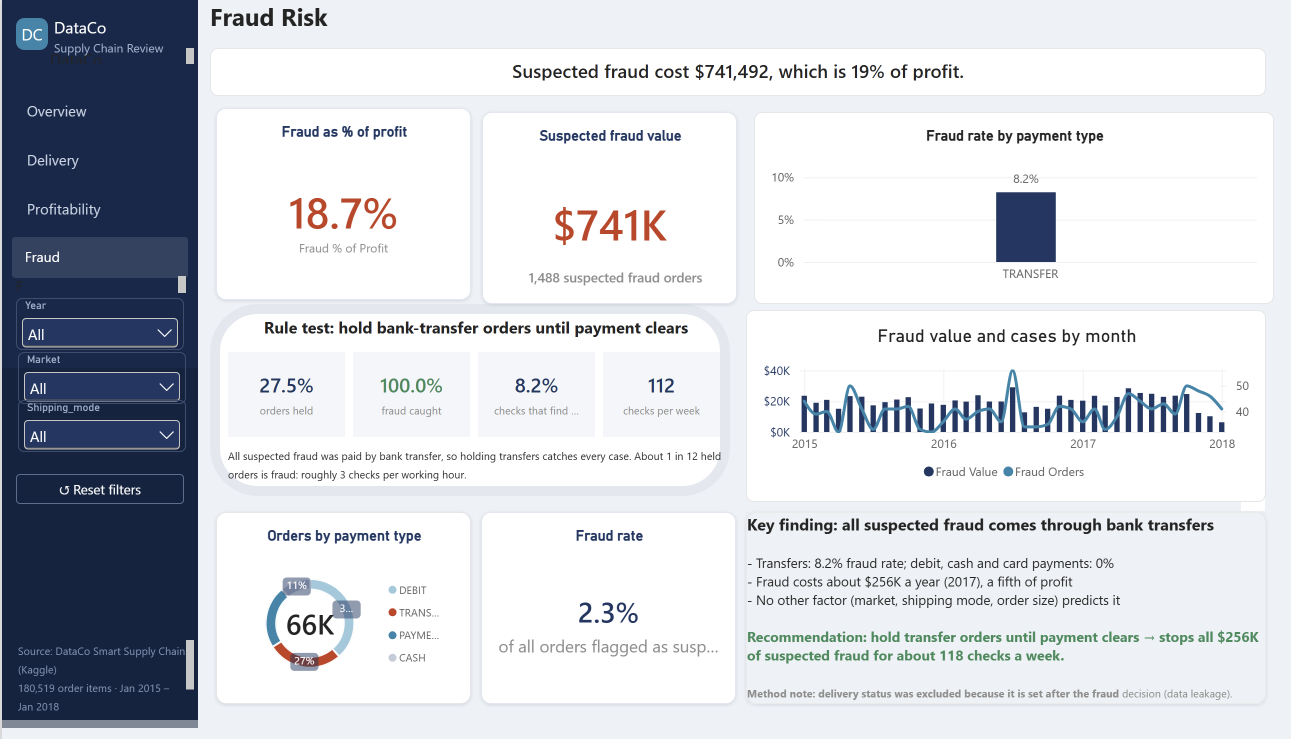

This screenshot's page, from the dashboard's own definition file:
{"tool":"powerbi","page":{"name":"Fraud","canvas":[1920,1080],"ordinal":3},"visuals":[{"type":"group","id":"g1","title":"Side panel","box":[0,0,196,1080],"z":0},{"type":"shape","box":[0,0,196,720],"z":0,"group":"g1"},{"type":"shape","box":[0,368,196,360],"z":1000,"group":"g1"},{"type":"shape","box":[14,18,32,32],"z":2000,"group":"g1"},{"type":"textbox","box":[0,730,196,350],"z":3000,"group":"g1"},{"type":"textbox","box":[48,48,144,16],"z":4000,"group":"g1"},{"type":"textbox","box":[52,16,140,42],"z":5000,"group":"g1"},{"type":"pageNavigator","box":[10,90,176,190],"z":6000,"group":"g1"},{"type":"textbox","box":[14,276,170,24],"z":7000,"group":"g1"},{"type":"slicer","fields":{"Values":["Calendar.Year"]},"box":[14,298,168,52],"z":8000,"group":"g1"},{"type":"slicer","fields":{"Values":["Markets.market"]},"box":[16,352,168,52],"z":9000,"group":"g1"},{"type":"slicer","fields":{"Values":["orders.shipping_mode"]},"box":[16,400,168,52],"z":10000,"group":"g1"},{"type":"actionButton","box":[14,474,168,30],"z":11000,"group":"g1"},{"type":"textbox","box":[16,640,176,80],"z":12000,"group":"g1"}]}

Visuals, with their boxes on the page's 1920x1080 design canvas (x1, y1, x2, y2). These are canvas units, not pixel positions in the 1291x739 screenshot, which may show the page scaled, cropped or inside an application window:
"Side panel" group: bbox(0, 0, 196, 1080)
shape: bbox(0, 0, 196, 720)
shape: bbox(0, 368, 196, 728)
shape: bbox(14, 18, 46, 50)
textbox: bbox(0, 730, 196, 1080)
textbox: bbox(48, 48, 192, 64)
textbox: bbox(52, 16, 192, 58)
pageNavigator: bbox(10, 90, 186, 280)
textbox: bbox(14, 276, 184, 300)
slicer - Calendar.Year: bbox(14, 298, 182, 350)
slicer - Markets.market: bbox(16, 352, 184, 404)
slicer - orders.shipping_mode: bbox(16, 400, 184, 452)
actionButton: bbox(14, 474, 182, 504)
textbox: bbox(16, 640, 192, 720)
